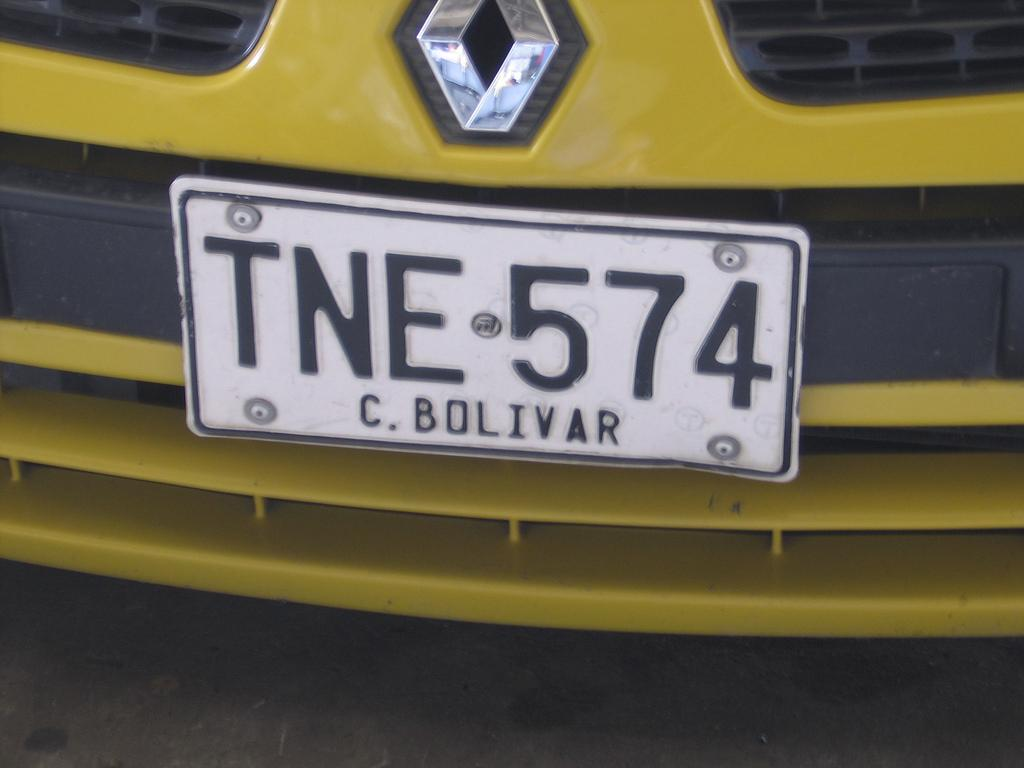placas: (166, 169, 812, 490)
